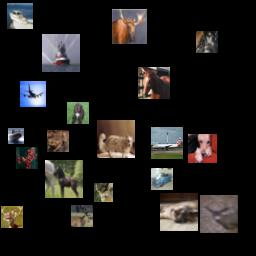airplane: (151, 127, 183, 159), (20, 81, 46, 107)
automobile: (151, 168, 173, 190)
cat: (97, 120, 135, 158), (160, 193, 198, 231), (196, 31, 218, 53)
deer: (200, 195, 238, 233), (112, 9, 147, 44), (71, 205, 93, 227), (1, 206, 23, 228), (94, 183, 113, 202)
dog: (188, 134, 217, 163), (67, 102, 89, 124)
frog: (16, 147, 38, 169), (47, 130, 69, 152)
ship: (42, 34, 80, 72), (7, 3, 33, 29), (8, 128, 24, 144)
